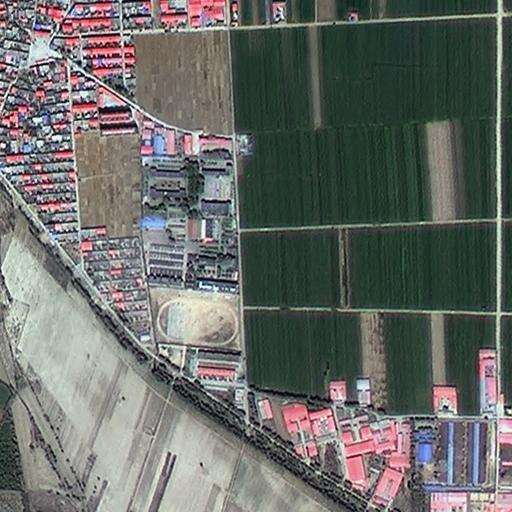school: (137, 119, 246, 389)
